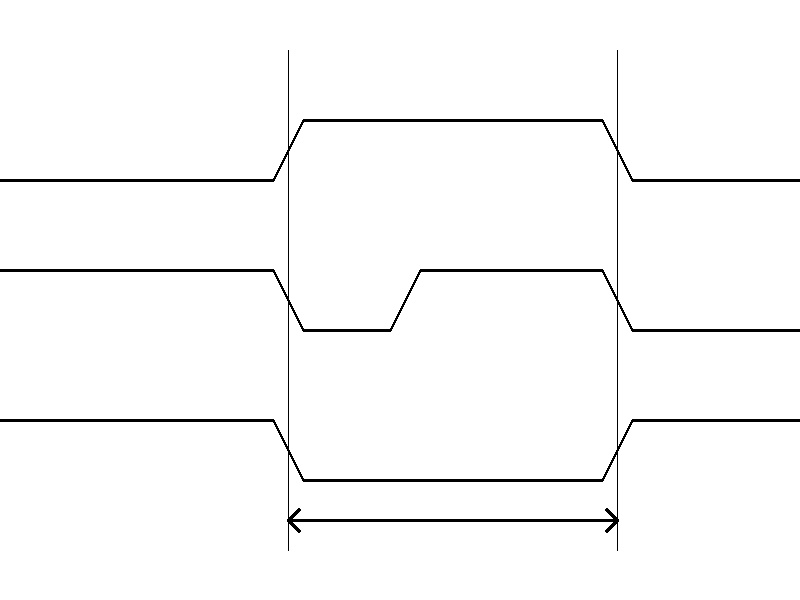double_arrow: (288, 505, 617, 535)
